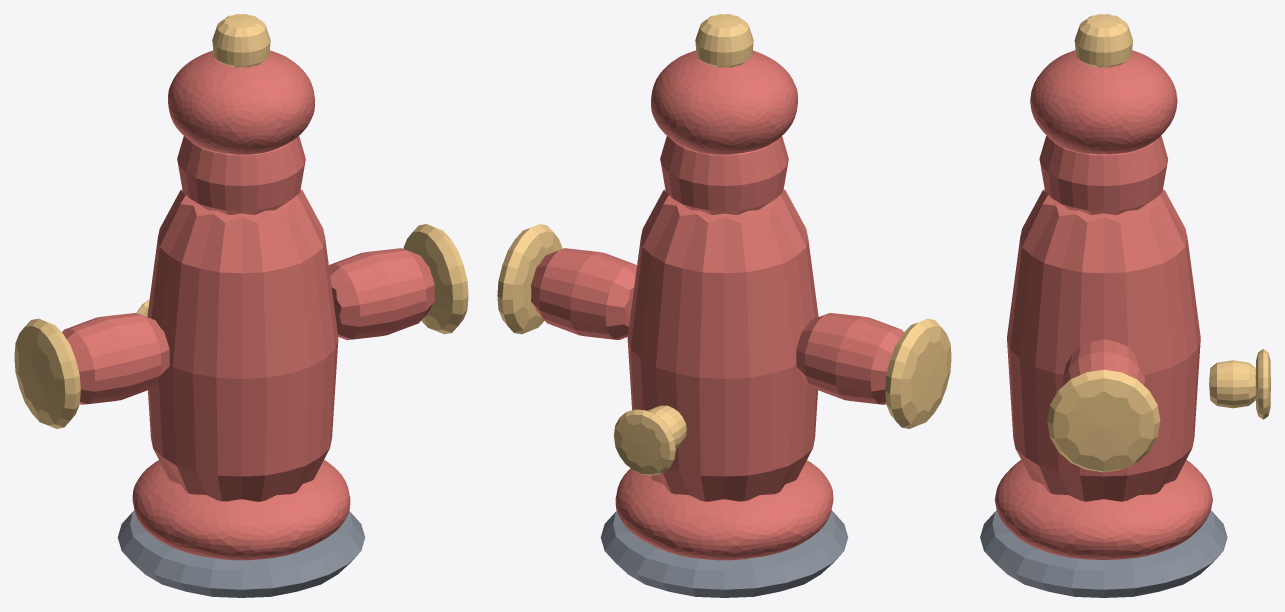
The model's file is hidrante.glb.
3 renders of one model, left to right at view 1: azimuth 30°, elevation 25°; view 2: azimuth 150°, elevation 25°; view 3: azimuth 270°, elevation 25°, orthographic.
Parts seen in each view (by area): view 1: Hidrante; view 2: Hidrante; view 3: Hidrante.
Boxes of the visible parts, x1,y1,x2,y2 form: Hidrante: (14,14,468,597); Hidrante: (497,14,951,597); Hidrante: (980,14,1270,597).
Bounding box in the file's own units: 0.744 × 0.93 × 0.4561.
